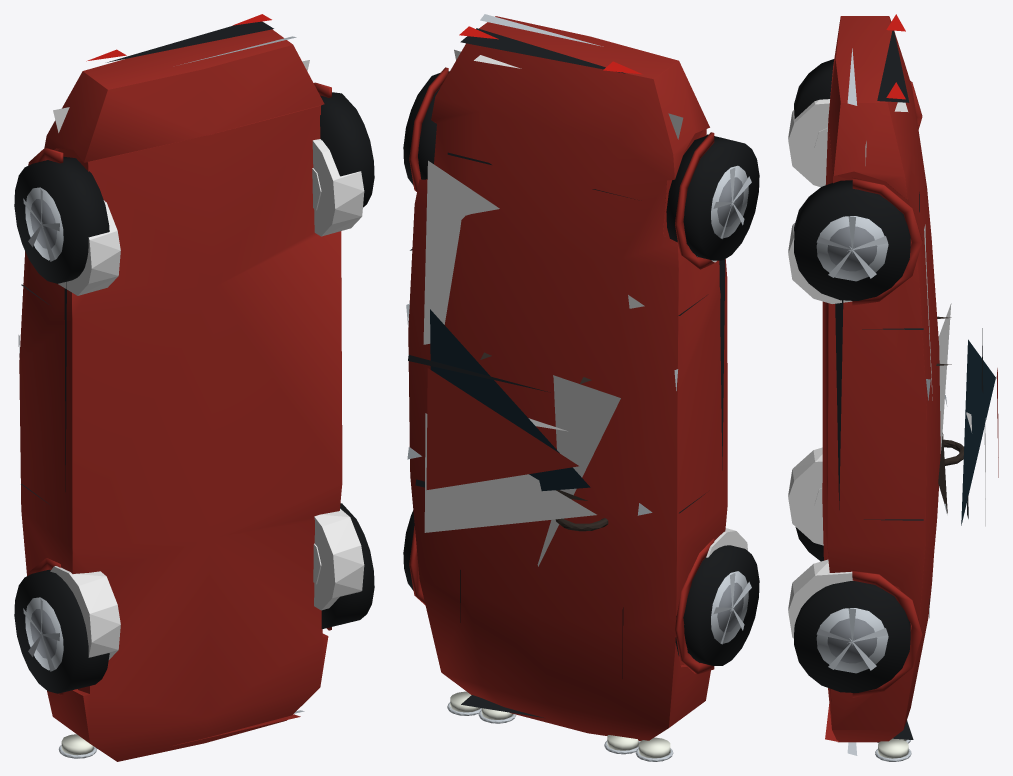
The model's file is HeroCrownfire_LOD1.fbx.
3 renders of one model, left to right at view 1: azimuth 30°, elevation 25°; view 2: azimuth 150°, elevation 25°; view 3: azimuth 270°, elevation 25°, orthographic. The views are drawn at different scales.
Parts seen in each view (by area): view 1: Crownfire_BODY_SHELL, Crownfire_TIRE.001, Crownfire_TIRE, hero_1967_Wheel.002, Crownfire_TIRE.003, hero_1967_Wheel.003, hero_1967_Wheel, hero_1967_Wheel.001, Crownfire_TIRE.002, Crownfire_REAR_LAMP_PANEL, Crownfire_RIM.001, Crownfire_RIM (+2 smaller); view 2: Crownfire_BODY_SHELL, Crownfire_ROOF_PANEL, hero_1967_Windshield, Crownfire_TIRE.001, hero_1967_Hood, Crownfire_TIRE, Crownfire_GLASSHOUSE, hero_1967_Cabin, Crownfire_TIRE.003, Crownfire_WHEEL_ARCH.001, Crownfire_REAR_LAMP_PANEL, Crownfire_WHEEL_ARCH (+6 smaller); view 3: Crownfire_BODY_SHELL, Crownfire_TIRE.003, Crownfire_TIRE.002, Crownfire_GLASSHOUSE, hero_1967_Wheel, hero_1967_Wheel.001, Crownfire_WHEEL_ARCH.003, Crownfire_WHEEL_ARCH.002, Crownfire_RIM.002, Crownfire_RIM.003, hero_1967_Wheel.002, Crownfire_BRAKE.002 (+9 smaller).
Boxes of the visible parts, x1=… form: Crownfire_BODY_SHELL: x1=19, y1=29, x2=342, y2=761; Crownfire_TIRE.001: x1=14, y1=156, x2=109, y2=283; Crownfire_TIRE: x1=14, y1=569, x2=109, y2=693; hero_1967_Wheel.002: x1=314, y1=508, x2=364, y2=610; Crownfire_TIRE.003: x1=320, y1=92, x2=374, y2=207; hero_1967_Wheel.003: x1=312, y1=139, x2=364, y2=236; hero_1967_Wheel: x1=50, y1=566, x2=120, y2=659; hero_1967_Wheel.001: x1=58, y1=200, x2=120, y2=295; Crownfire_TIRE.002: x1=321, y1=503, x2=374, y2=629; Crownfire_REAR_LAMP_PANEL: x1=107, y1=21, x2=273, y2=62; Crownfire_RIM.001: x1=25, y1=187, x2=63, y2=260; Crownfire_RIM: x1=25, y1=597, x2=63, y2=670; Crownfire_BODY_SHELL: x1=408, y1=16, x2=727, y2=740; Crownfire_ROOF_PANEL: x1=426, y1=368, x2=578, y2=489; hero_1967_Windshield: x1=424, y1=413, x2=596, y2=532; Crownfire_TIRE.001: x1=666, y1=134, x2=759, y2=260; hero_1967_Hood: x1=423, y1=160, x2=644, y2=344; Crownfire_TIRE: x1=675, y1=545, x2=759, y2=665; Crownfire_GLASSHOUSE: x1=430, y1=309, x2=590, y2=491; hero_1967_Cabin: x1=537, y1=375, x2=620, y2=566; Crownfire_TIRE.003: x1=403, y1=71, x2=449, y2=185; Crownfire_WHEEL_ARCH.001: x1=675, y1=132, x2=714, y2=269; Crownfire_REAR_LAMP_PANEL: x1=460, y1=28, x2=625, y2=73; Crownfire_WHEEL_ARCH: x1=675, y1=538, x2=714, y2=673; Crownfire_BODY_SHELL: x1=822, y1=16, x2=940, y2=742; Crownfire_TIRE.003: x1=794, y1=180, x2=910, y2=300; Crownfire_TIRE.002: x1=794, y1=581, x2=910, y2=692; Crownfire_GLASSHOUSE: x1=961, y1=339, x2=995, y2=525; hero_1967_Wheel: x1=788, y1=447, x2=823, y2=545; hero_1967_Wheel.001: x1=788, y1=99, x2=829, y2=187; Crownfire_WHEEL_ARCH.003: x1=852, y1=178, x2=922, y2=305; Crownfire_WHEEL_ARCH.002: x1=852, y1=570, x2=922, y2=697; Crownfire_RIM.002: x1=816, y1=608, x2=888, y2=673; Crownfire_RIM.003: x1=816, y1=216, x2=888, y2=281; hero_1967_Wheel.002: x1=788, y1=559, x2=853, y2=638; Crownfire_BRAKE.002: x1=827, y1=618, x2=877, y2=663.
Size of the model in its own units: 232 by 496 by 144.
